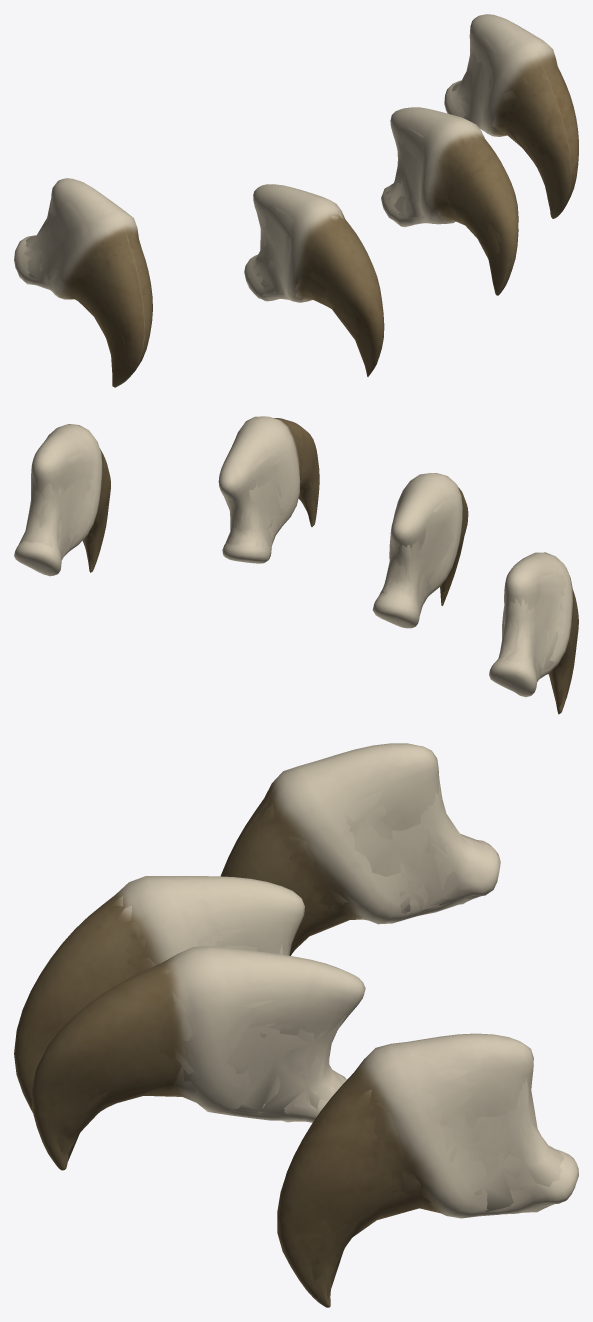
The model's file is FL 3rd Phalanx.fbx.
3 renders of one model, top to bottom at view 1: azimuth 30°, elevation 25°; view 2: azimuth 150°, elevation 25°; view 3: azimuth 270°, elevation 25°, orthographic. The views are drawn at different scales.
Parts seen in each view (by area): view 1: FL 3rd Phalanx high, FL 3rd Phalanx low, FL 3rd Phalanx; view 2: FL 3rd Phalanx high, FL 3rd Phalanx low, FL 3rd Phalanx; view 3: FL 3rd Phalanx high, FL 3rd Phalanx, FL 3rd Phalanx low.
Boxes of the visible parts, <box> form: FL 3rd Phalanx high: <box>14,14,578,387</box>; FL 3rd Phalanx low: <box>26,50,560,354</box>; FL 3rd Phalanx: <box>24,34,556,372</box>; FL 3rd Phalanx high: <box>14,416,578,714</box>; FL 3rd Phalanx low: <box>19,437,575,708</box>; FL 3rd Phalanx: <box>28,434,575,711</box>; FL 3rd Phalanx high: <box>14,743,578,1307</box>; FL 3rd Phalanx: <box>44,781,568,1298</box>; FL 3rd Phalanx low: <box>57,780,563,1299</box>.
Size of the model in its own units: 8.96 by 3.51 by 5.34.
